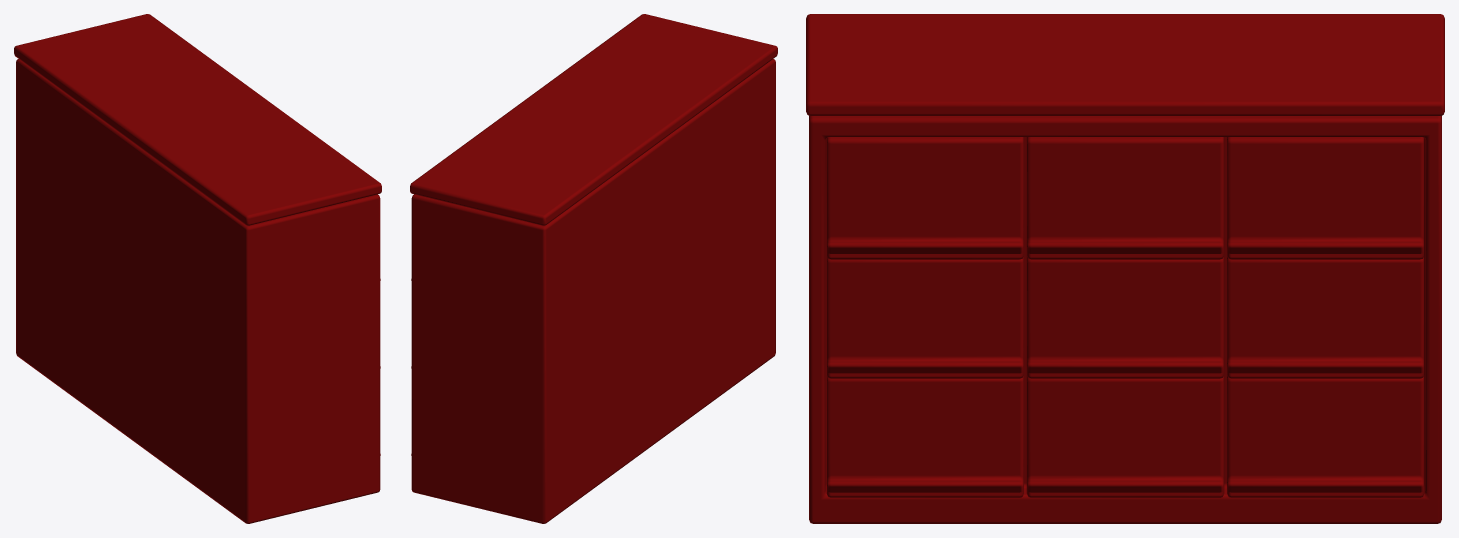
File: SM_locker.fbx
3 renders of one model, left to right at view 1: azimuth 30°, elevation 25°; view 2: azimuth 150°, elevation 25°; view 3: azimuth 270°, elevation 25°, orthographic. The views are drawn at different scales.
Parts seen in each view (by area): view 1: locker; view 2: locker; view 3: locker.
Part boxes in pixels (x1,y1,x2,y2): locker: (14,14,381,523); locker: (410,14,777,523); locker: (806,14,1444,523).
Bounding box in the file's own units: 51.21 × 107 × 146.
